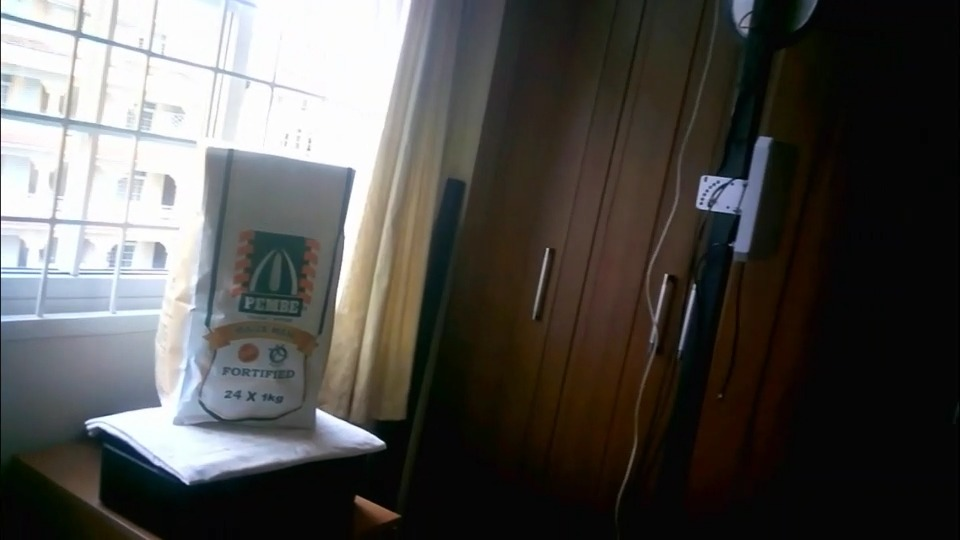maize_flour_green_label: (159, 147, 351, 429)
